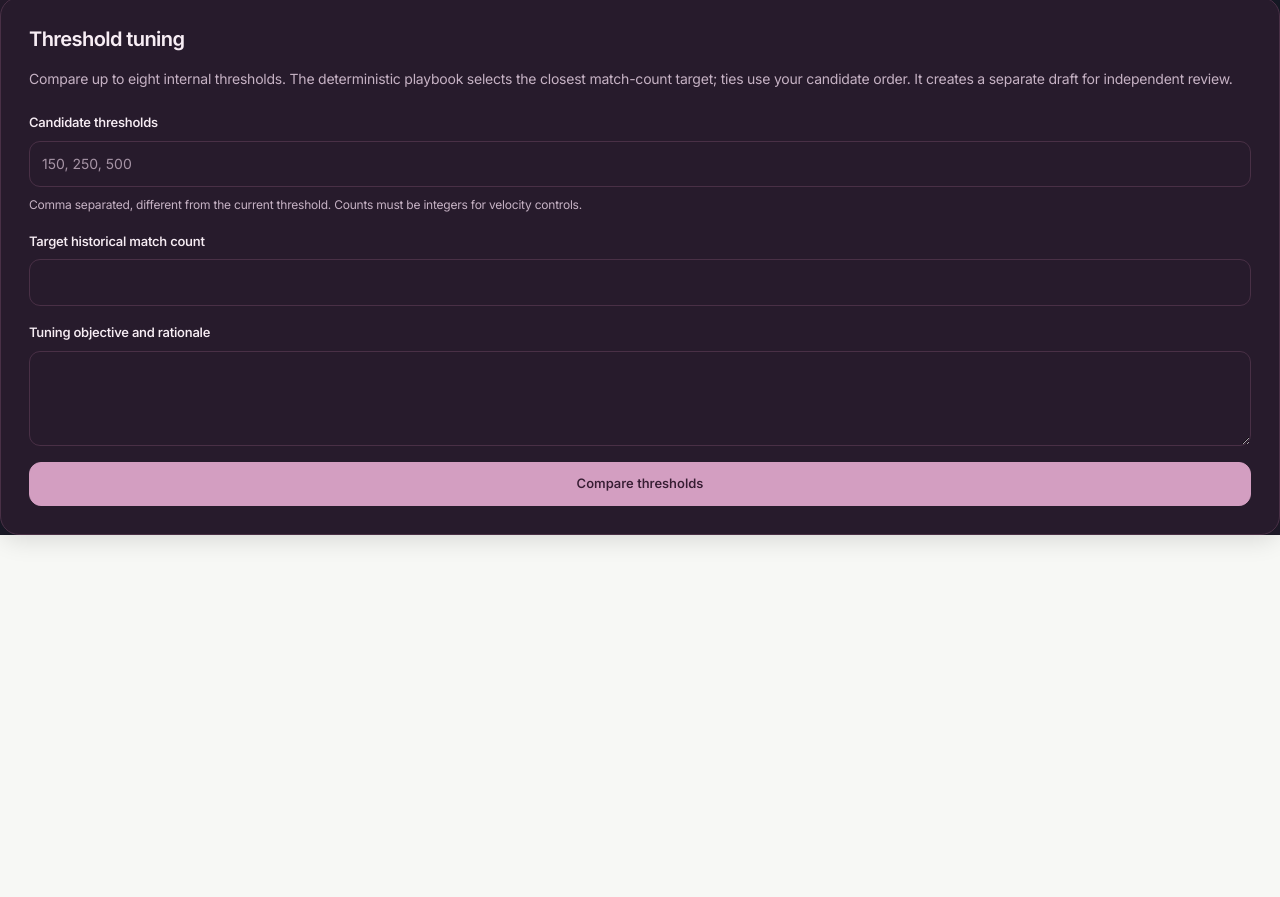
Test: comparison uses the server-pinned request and creates only a review draft
The image size is (1280, 897).
Type "200, 300" into the field labelled "Candidate thresholds".
click(640, 164); type("200, 300")  # box [29,141,1251,187]
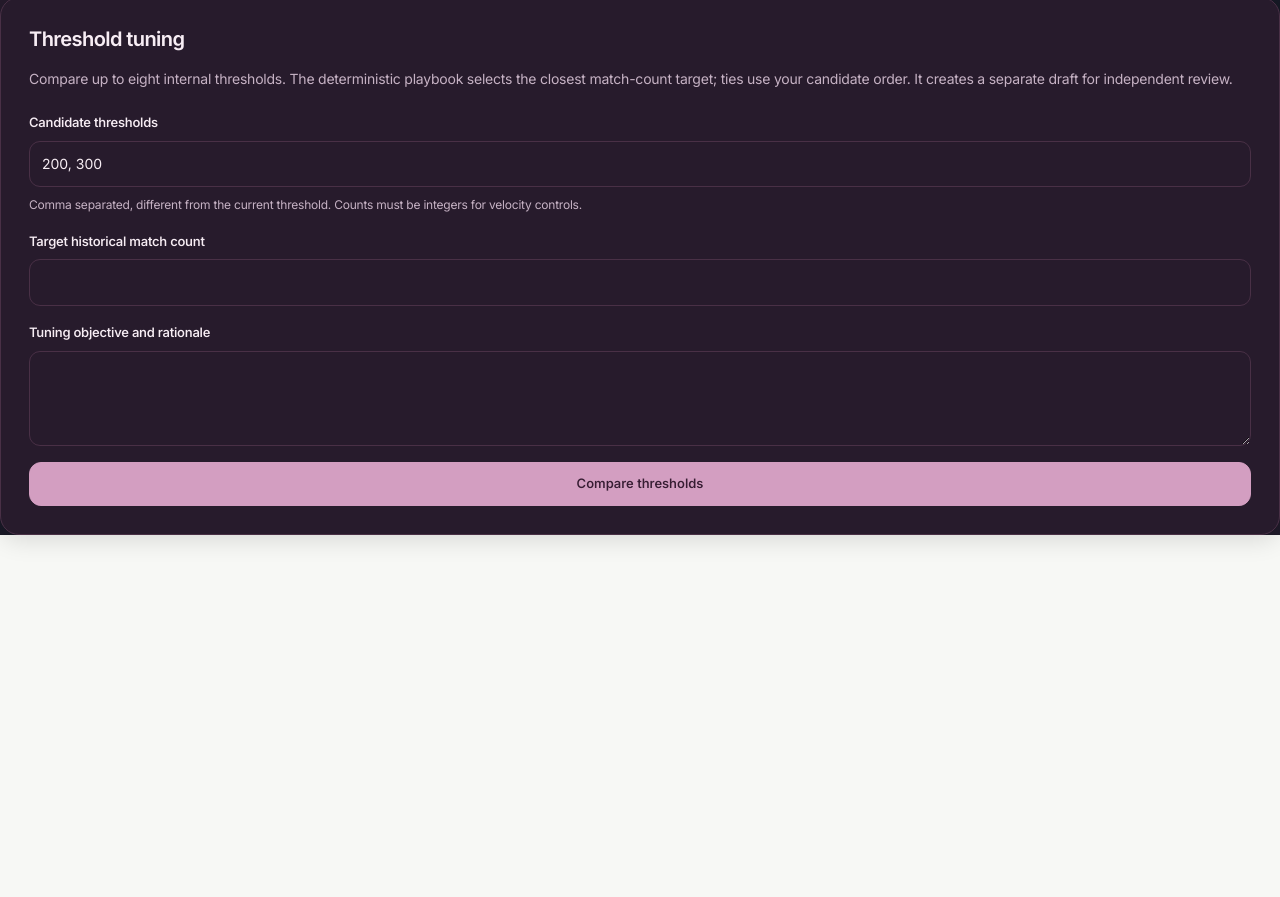
Type "1" into the number field labelled "Target historical match count".
click(640, 283); type("1")  # box [29,259,1251,306]
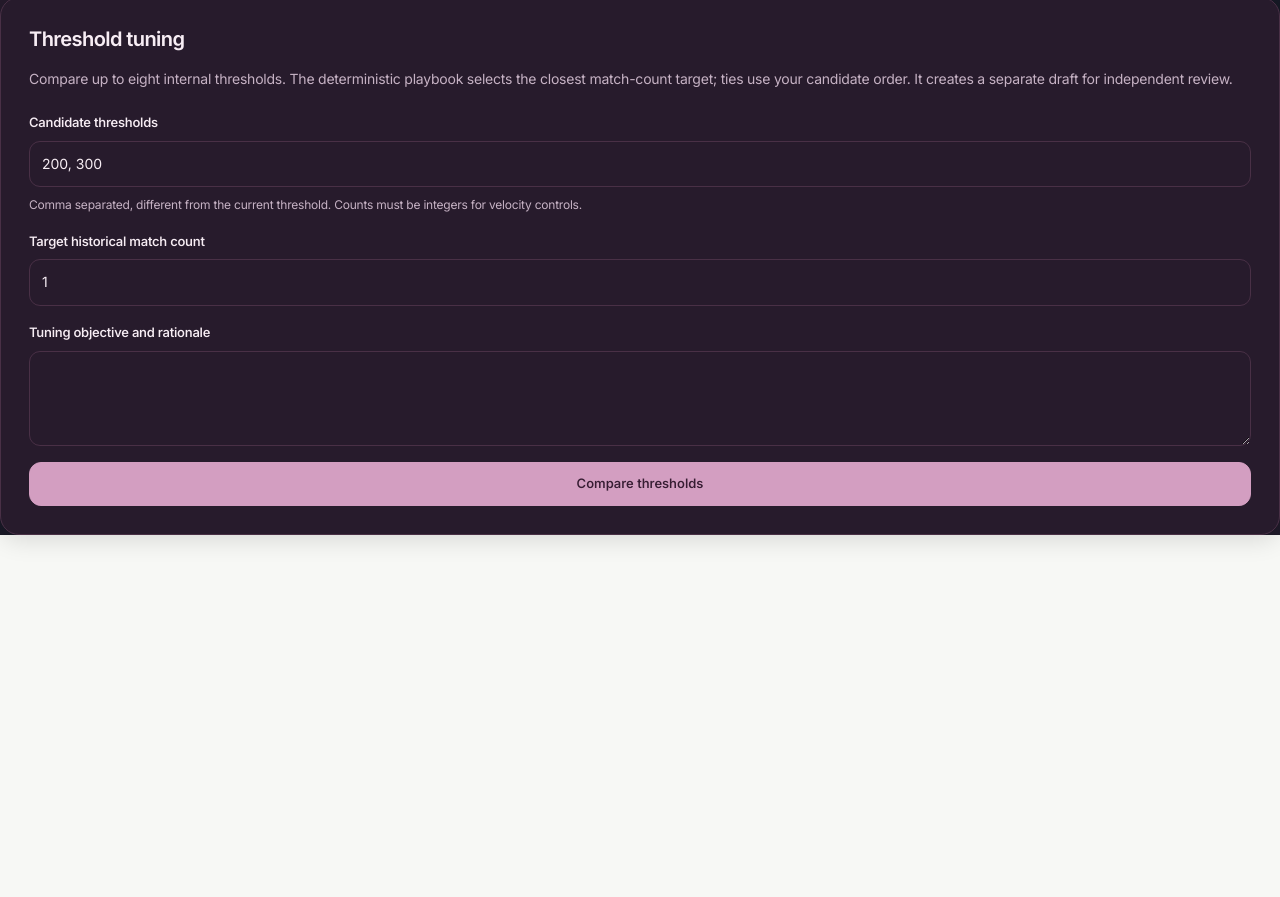
Type "Compare historical workload against stated review capacity." into the text box labelled "Tuning objective and rationale".
click(640, 398); type("Compare historical workload against stated review capacity.")  # box [29,350,1251,446]
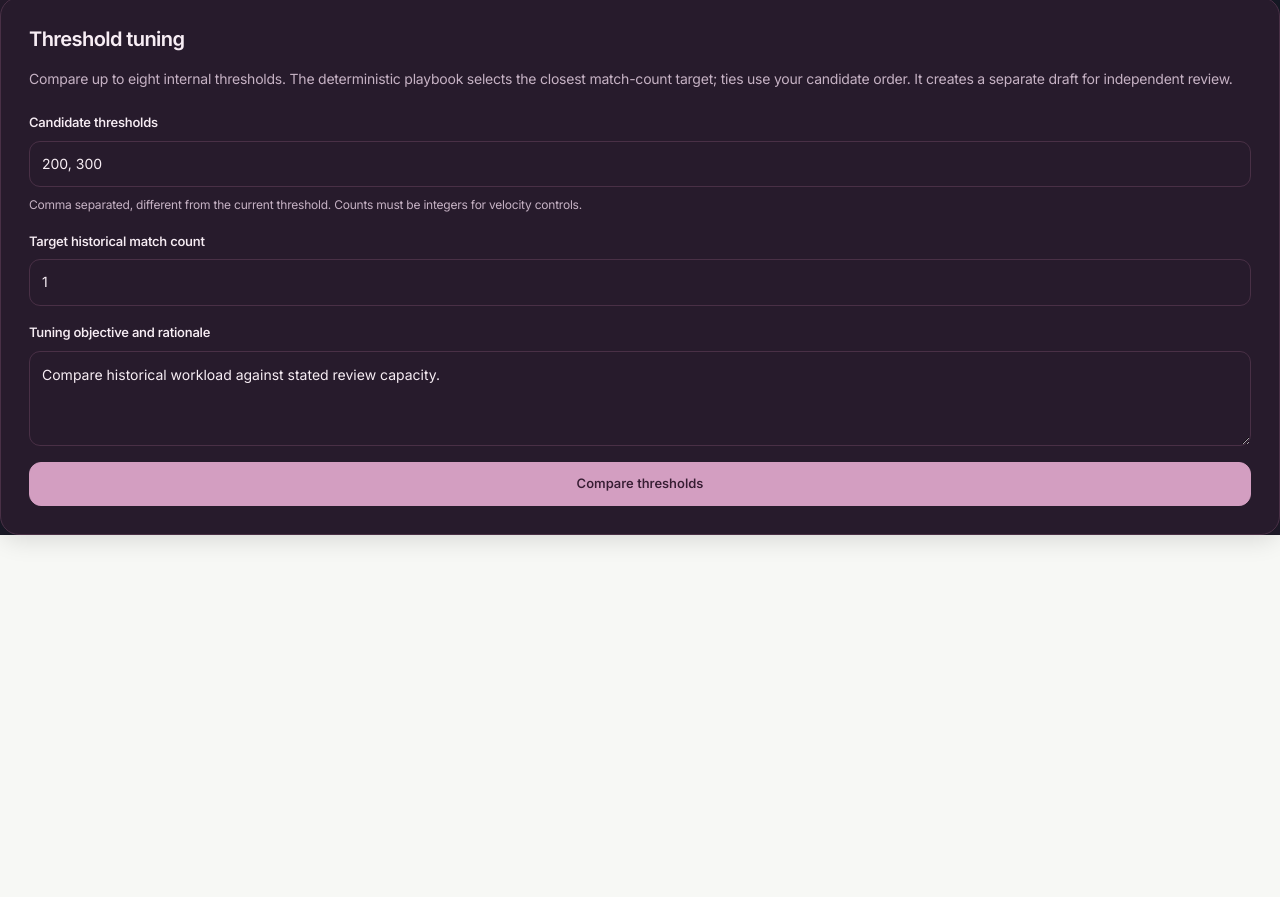
Click the button "Compare thresholds".
click(640, 484)  # box [29,462,1251,506]
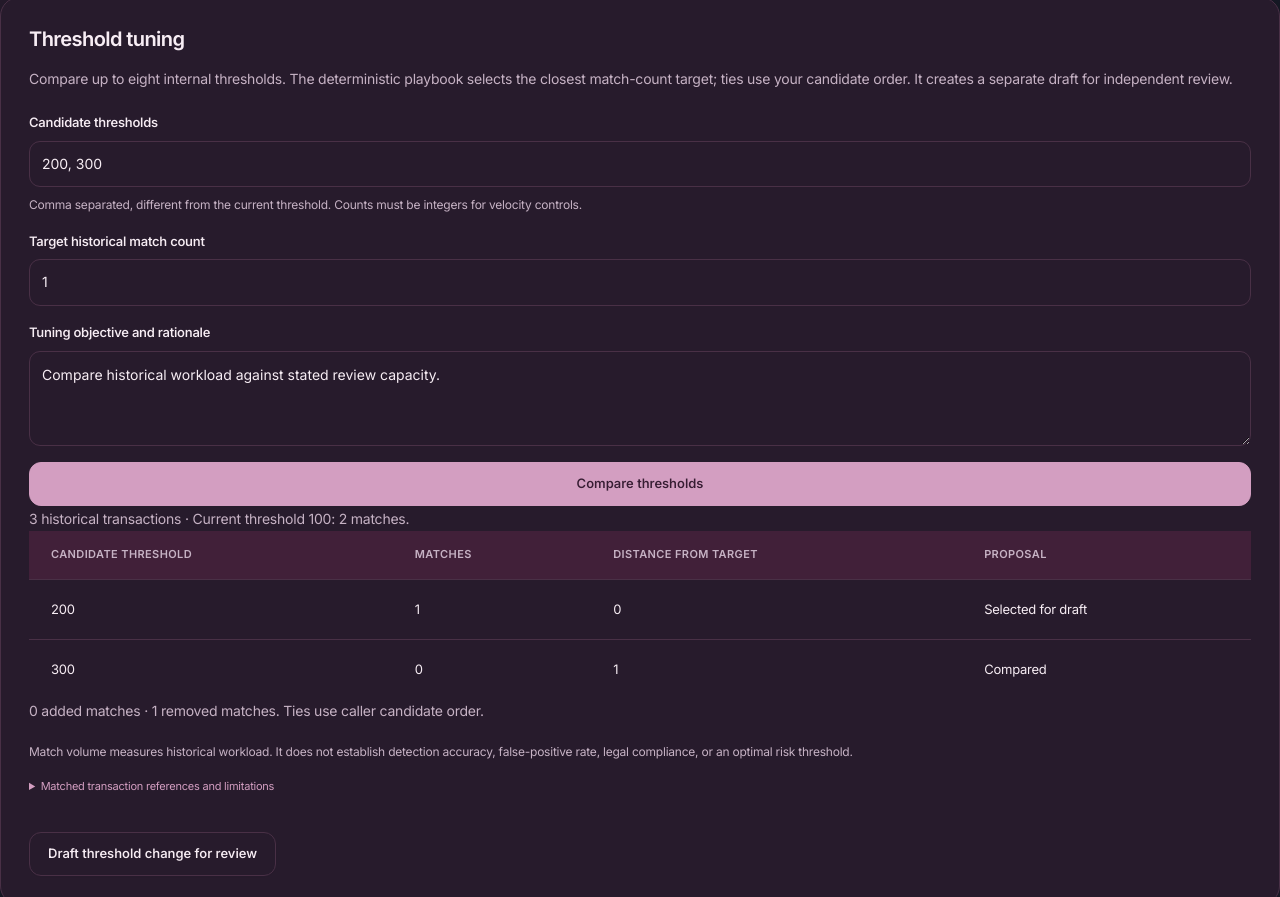
Expected: the text "Selected for draft" is shown, [962,579,1251,639]
Expected: the text "does not establish detection accuracy" is shown, [29,744,853,758]
Click the button "Draft threshold change for review".
click(152, 854)  # box [29,832,276,876]
(page scrolled)
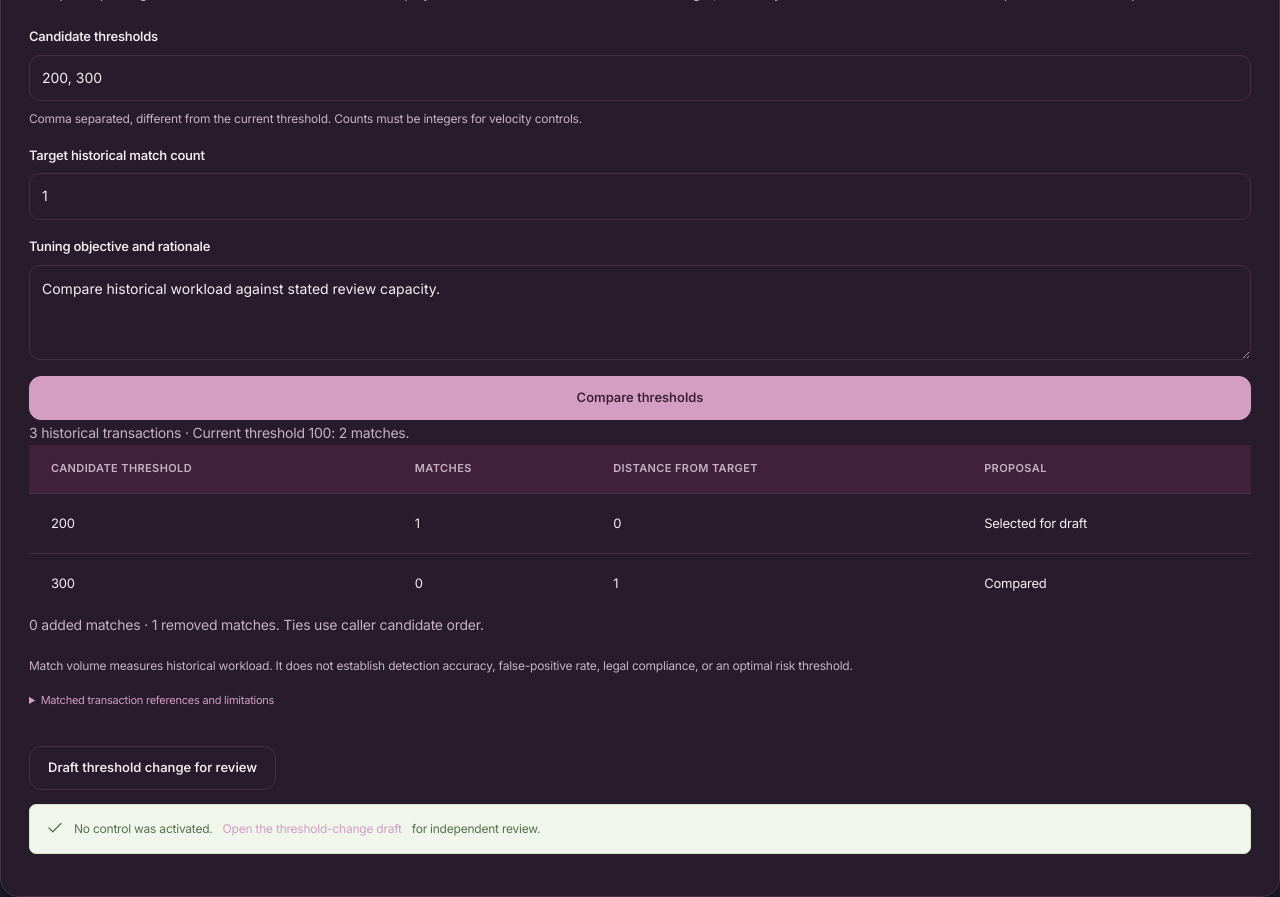
Expected: the text "No control was activated" is shown, [74,821,213,836]
